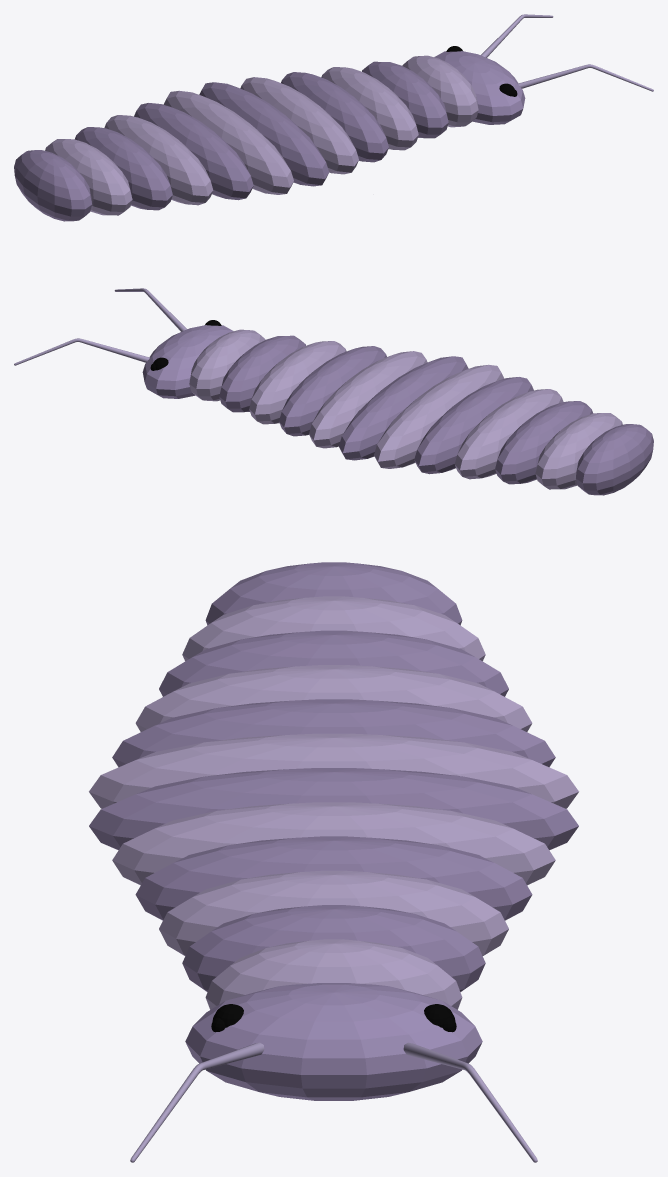
Rendered from isopode_gigante.glb.
3 renders of one model, top to bottom at view 1: azimuth 30°, elevation 25°; view 2: azimuth 150°, elevation 25°; view 3: azimuth 270°, elevation 25°, orthographic. The views are drawn at different scales.
Parts seen in each view (by area): view 1: corpo; view 2: corpo; view 3: corpo.
Part boxes in pixels (box(x1,y1,x2,y2)): corpo: box(14, 14, 653, 221); corpo: box(14, 288, 653, 495); corpo: box(89, 562, 578, 1162).
Size of the model in its own units: 4.9 by 0.6577 by 1.81.
